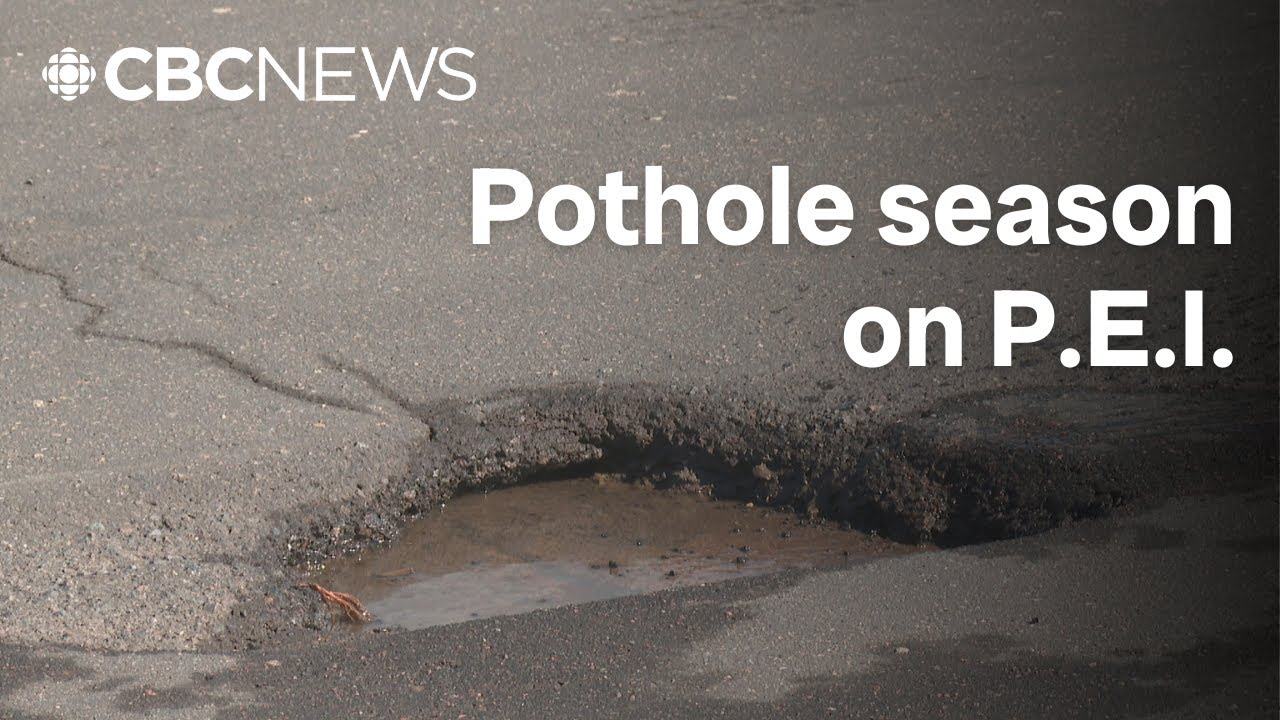Hole_in_the_road: (158, 374, 1046, 597)
